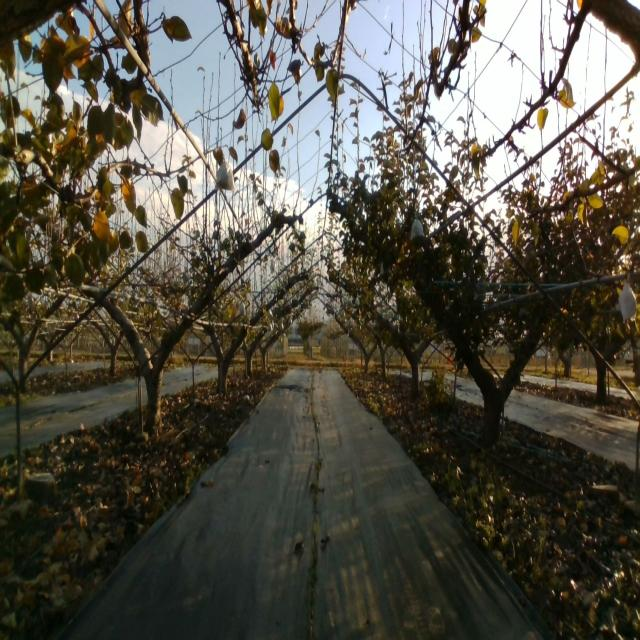pearbags: (213, 155, 236, 191), (619, 282, 637, 324), (410, 211, 424, 241)
